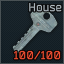Hillside house key: (0, 0, 64, 64)
